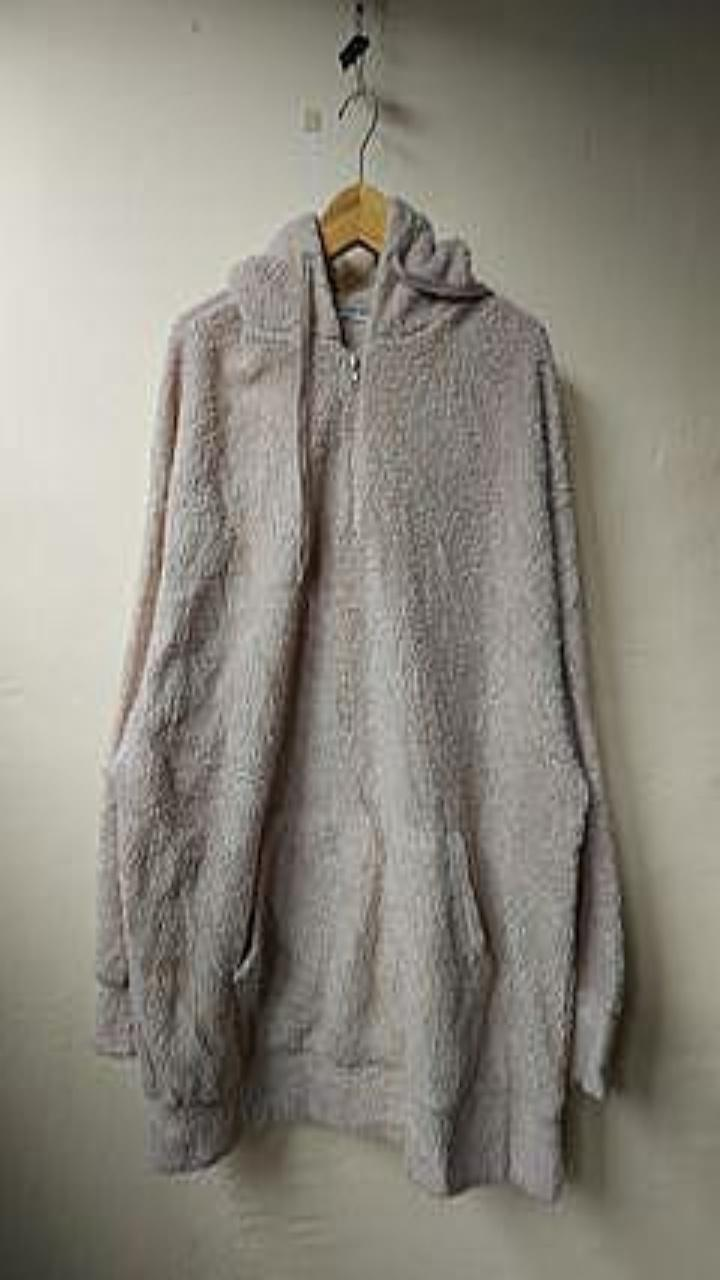Hoodie: (96, 195, 622, 1199)
